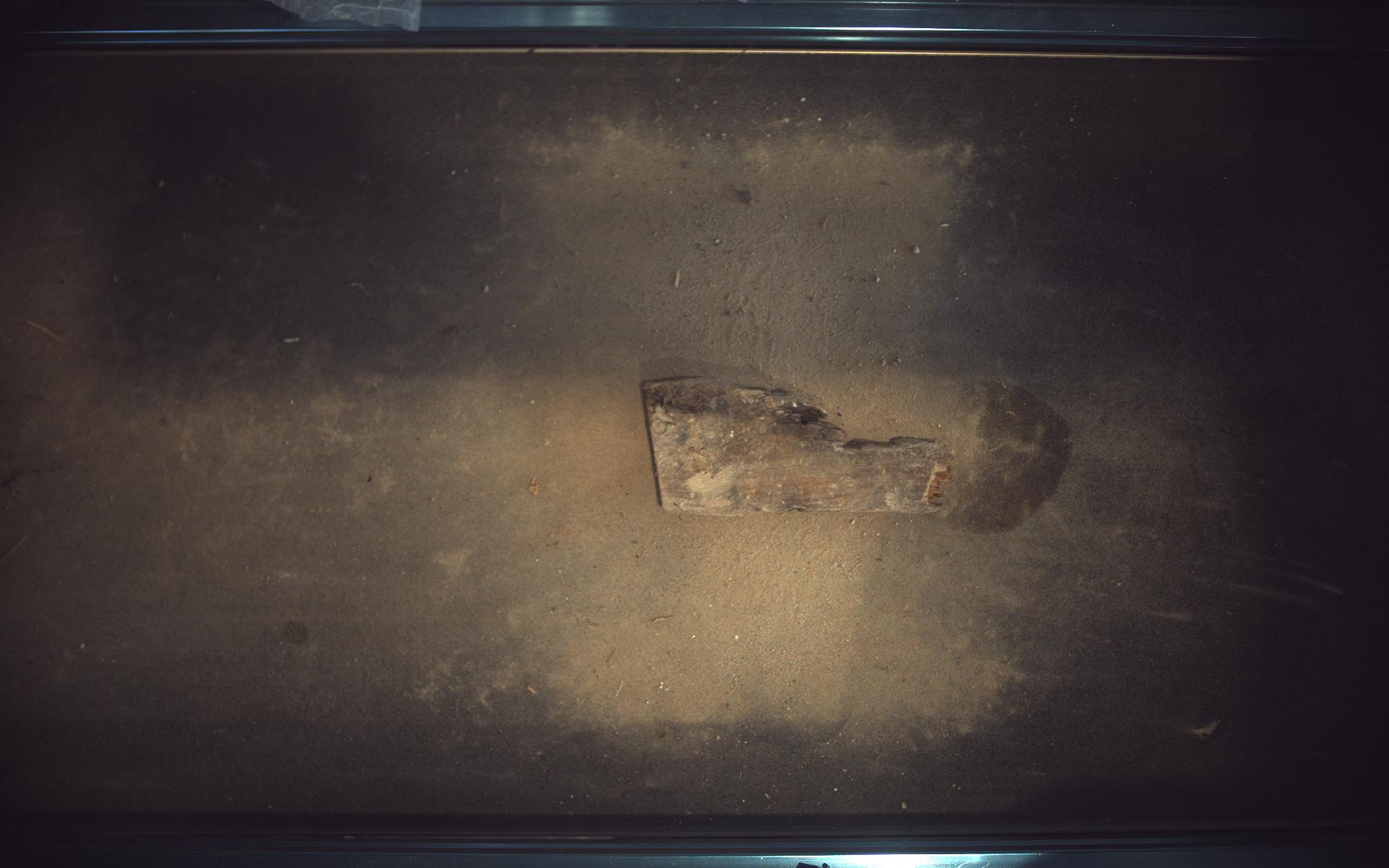wood: (643, 377, 955, 515)
